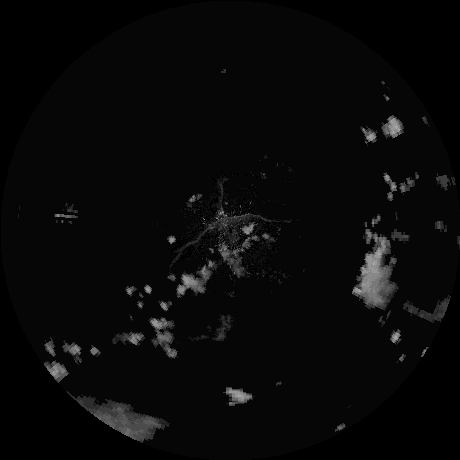frontgust: (174, 212, 291, 259)
